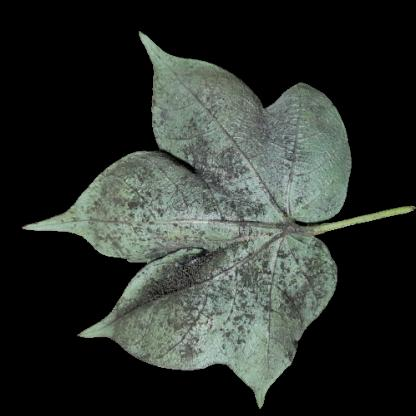curl_stage2: (306, 141, 348, 197), (158, 63, 206, 111)
sooty: (109, 179, 247, 327), (243, 107, 305, 197), (252, 239, 320, 319), (169, 111, 236, 171), (126, 334, 254, 363)
